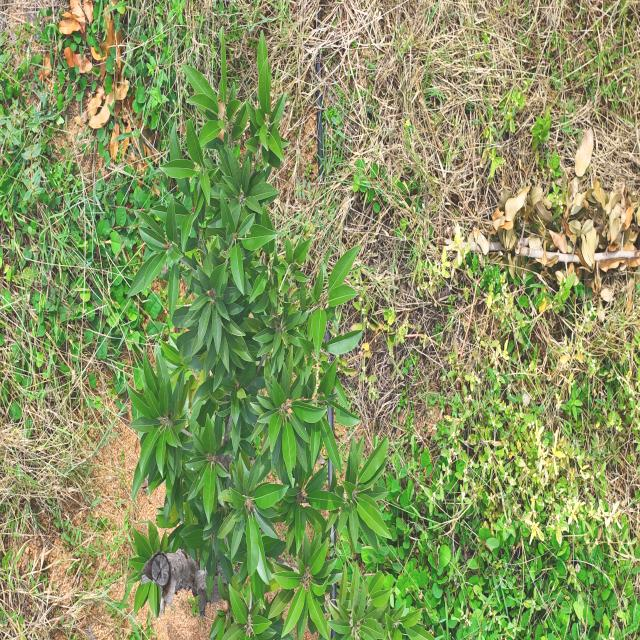notMangoTree: (106, 22, 451, 640)
